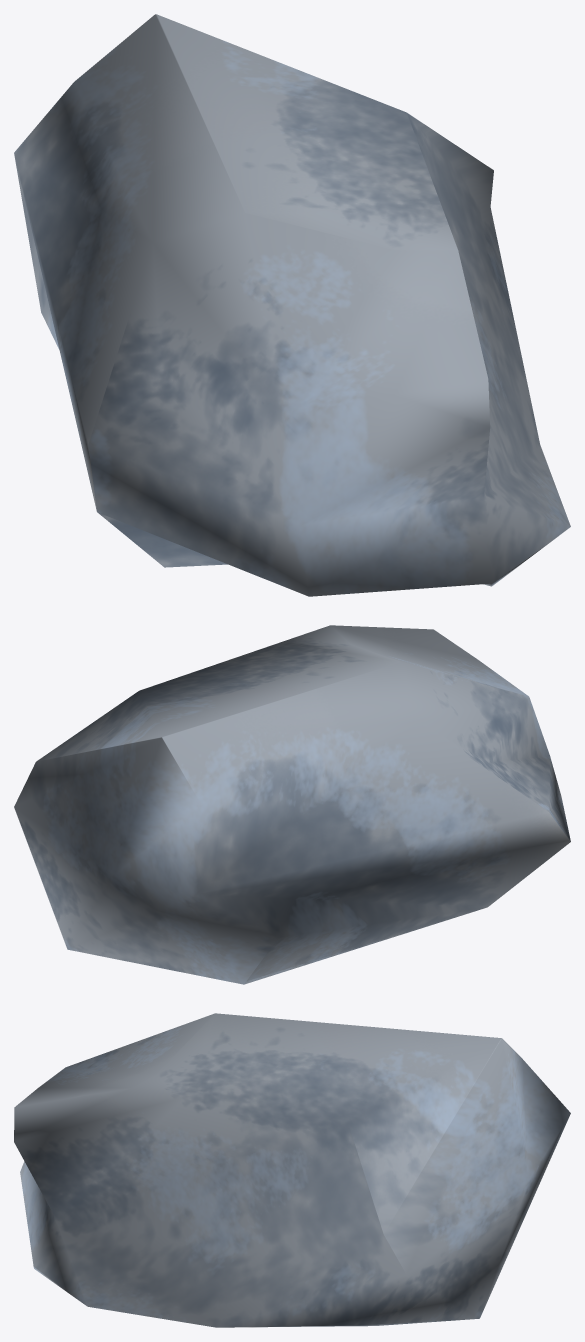
Rendered from stone3.fbx.
3 views of the same model, one above another, from view 1: azimuth 30°, elevation 25°; view 2: azimuth 150°, elevation 25°; view 3: azimuth 270°, elevation 25° (orthographic). The views are drawn at different scales.
Visible parts, largest first — view 1: pCube7; view 2: pCube7; view 3: pCube7.
Part boxes in pixels (bbox=[...]): pCube7: bbox=[14, 14, 570, 596]; pCube7: bbox=[14, 625, 570, 984]; pCube7: bbox=[14, 1013, 570, 1327].
Size of the model in its own units: 1.29 by 0.7347 by 1.56.
